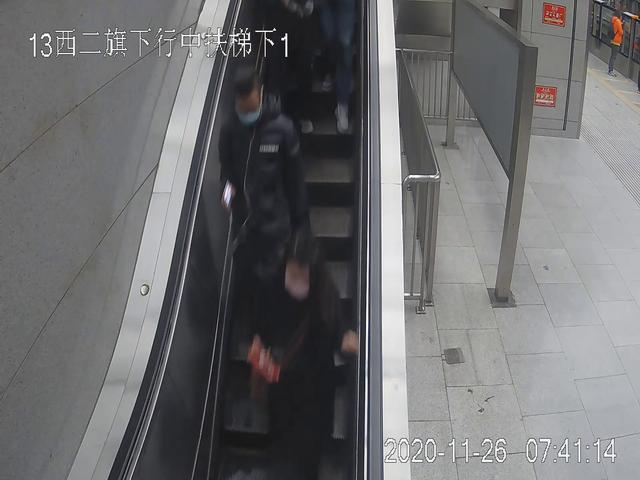person: (249, 238, 361, 480), (220, 68, 308, 306), (605, 9, 627, 78)
